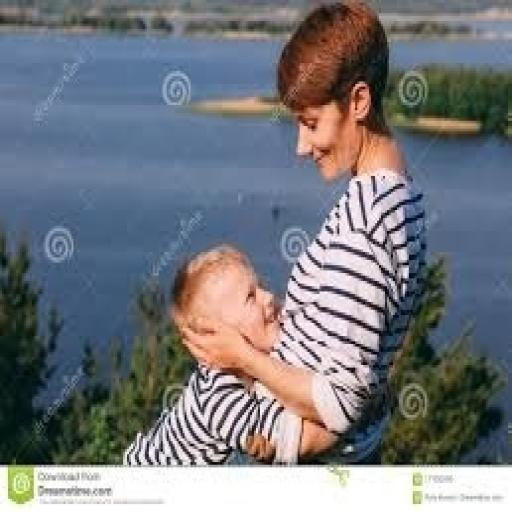hugging: (121, 0, 429, 465), (121, 242, 343, 468)
